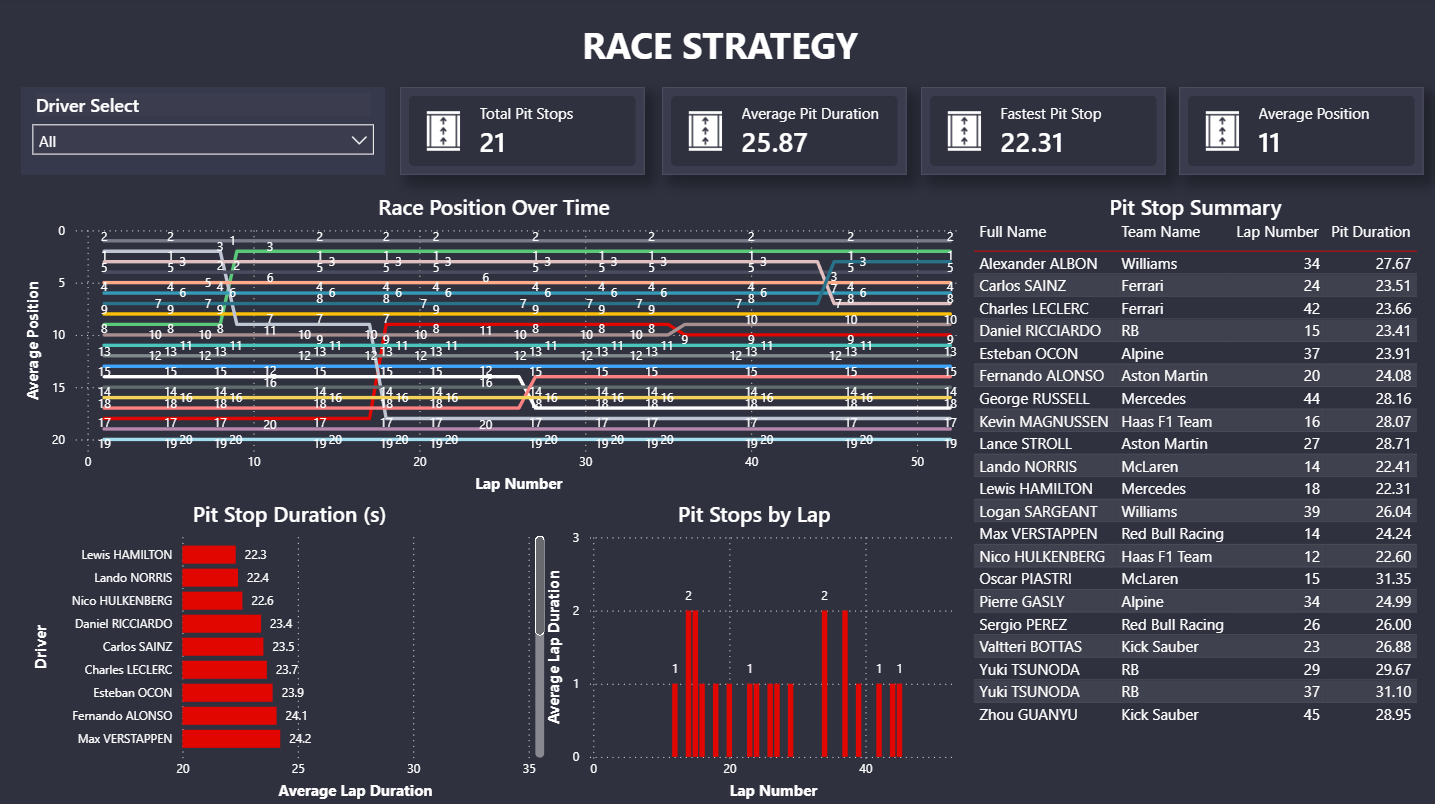

This screenshot's page, from the dashboard's own definition file:
{"tool":"powerbi","page":{"name":"Race Strategy","canvas":[1280,720],"ordinal":3},"visuals":[{"type":"clusteredBarChart","title":"Pit Stop Duration (s)","fields":{"Category":["race_summary.full_name"],"Y":["Avg(pit_clean.pit_duration)"]},"box":[27.5,444.2,462,271.3],"z":0},{"type":"cardVisual","title":"Avg. Lap Duration","fields":{"Data":["Sum(race_summary.pit_stops)"]},"box":[356.4,79,217.3,78.1],"z":1000},{"type":"cardVisual","fields":{"Data":["Avg(race_summary.avg_pit_duration)"]},"box":[588.7,79,217.3,78.1],"z":2000},{"type":"cardVisual","fields":{"Data":["Min(pit_clean.pit_duration)"]},"box":[818.2,79,217.3,78.1],"z":3000},{"type":"cardVisual","fields":{"Data":["Avg(positions_clean.position)"]},"box":[1046.8,79,217.3,78.1],"z":4000},{"type":"slicer","fields":{"Values":["race_summary.full_name"]},"box":[20.7,79,322.6,78.1],"z":5000},{"type":"textbox","box":[258.6,14.1,762.7,89.3],"z":6000},{"type":"clusteredColumnChart","title":"Pit Stops by Lap","fields":{"Category":["pit_clean.lap_number"],"Y":["CountNonNull(pit_clean.driver_number)"]},"box":[482.5,443.9,376.6,271.7],"z":7000},{"type":"lineChart","title":"Race Position Over Time","fields":{"Series":["positions_clean.driver_number"],"Category":["positions_clean.lap_number"],"Y":["Avg(positions_clean.position)"]},"box":[20.3,172.2,838.9,271.7],"z":8000},{"type":"tableEx","title":"Pit Stop Summary","fields":{"Values":["race_summary.full_name","race_summary.team_name","pit_clean.lap_number","pit_clean.pit_duration"]},"box":[859.2,172.2,405.2,543.3],"z":9000}]}

Visuals, with their boxes in screenshot pixels (x1, y1, x2, y2), scaled from the page's 1280x720 canvas onto the 1435x804 screenshot:
"Pit Stop Duration (s)" clusteredBarChart: select_region(31, 496, 549, 799)
"Avg. Lap Duration" cardVisual: select_region(400, 88, 643, 175)
cardVisual - Avg(race_summary.avg_pit_duration): select_region(660, 88, 904, 175)
cardVisual - Min(pit_clean.pit_duration): select_region(917, 88, 1161, 175)
cardVisual - Avg(positions_clean.position): select_region(1174, 88, 1417, 175)
slicer - race_summary.full_name: select_region(23, 88, 385, 175)
textbox: select_region(290, 16, 1145, 115)
"Pit Stops by Lap" clusteredColumnChart: select_region(541, 496, 963, 799)
"Race Position Over Time" lineChart: select_region(23, 192, 963, 496)
"Pit Stop Summary" tableEx: select_region(963, 192, 1418, 799)
